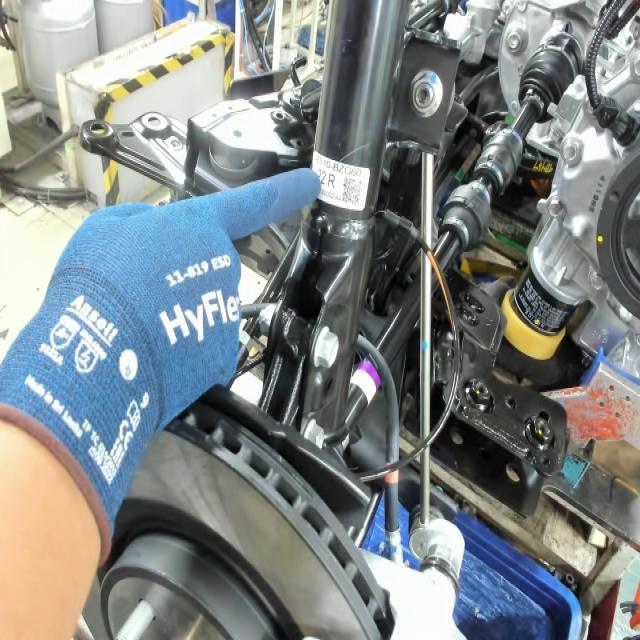Absorber RH-22: (315, 165, 365, 205)
Disc-HT: (94, 495, 312, 640)
Drive Shaft-UG: (348, 357, 389, 409)
